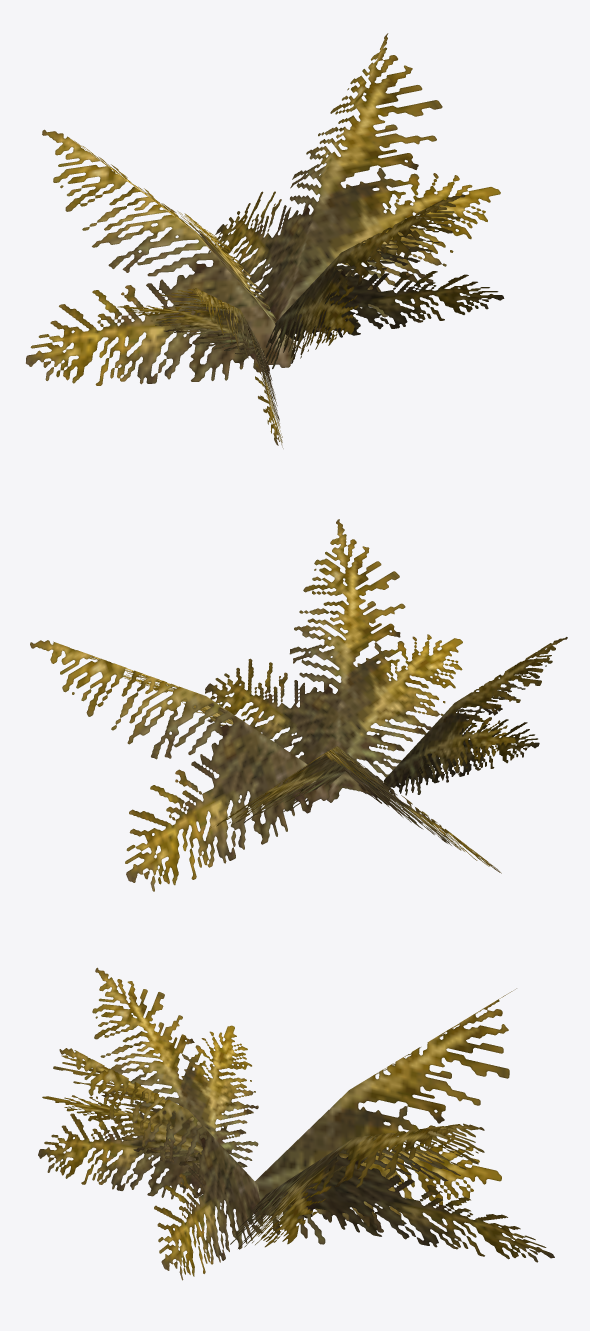
The model's file is naflbu20.dae.
3 views of the same model, one above another, from view 1: azimuth 30°, elevation 25°; view 2: azimuth 150°, elevation 25°; view 3: azimuth 270°, elevation 25° (orthographic). The views are drawn at different scales.
Parts seen in each view (by area): view 1: crown2; view 2: crown2; view 3: crown2.
Part boxes in pixels (box(x1,y1,x2,y2)): crown2: box(26, 33, 504, 448); crown2: box(30, 519, 567, 891); crown2: box(38, 967, 554, 1280).
Size of the model in its own units: 0.7783 by 0.7124 by 0.369.
1 material, 1 textured.
